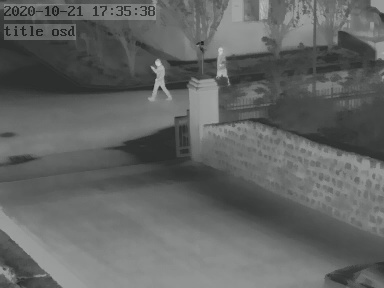person: (146, 57, 173, 101), (212, 43, 231, 78)
